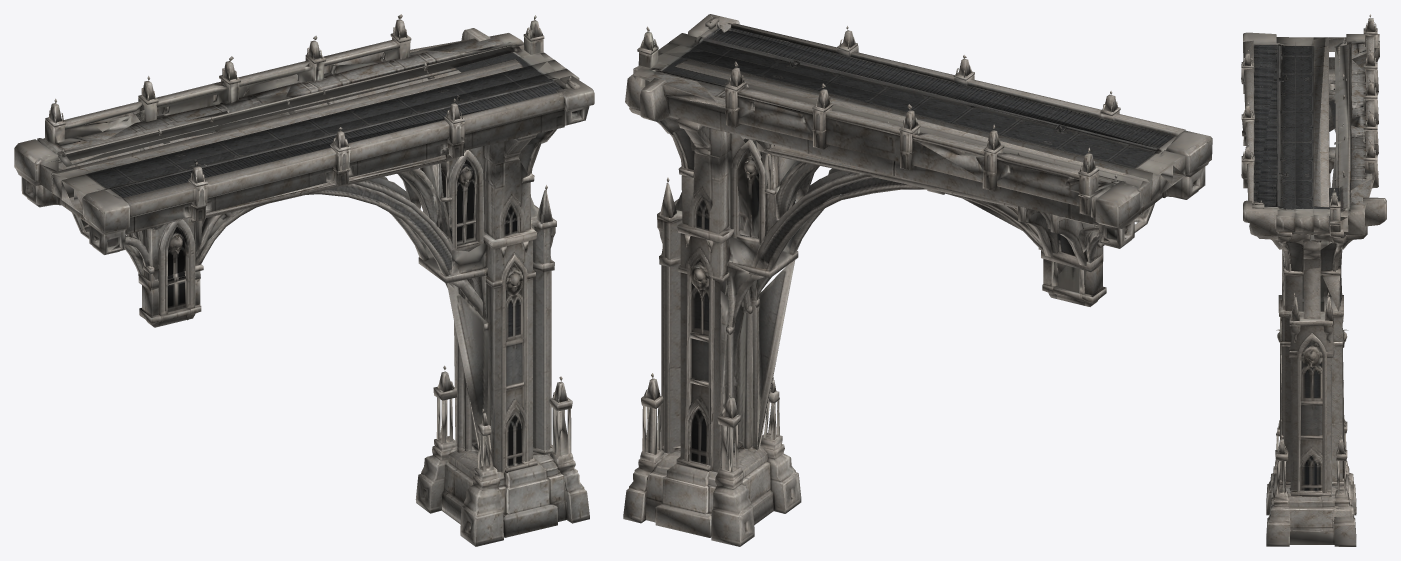
Rendered from Meshy_AI_Bridge_Segment_Low_Po_1029205627_texture.glb.
3 renders of one model, left to right at view 1: azimuth 30°, elevation 25°; view 2: azimuth 150°, elevation 25°; view 3: azimuth 270°, elevation 25°, orthographic. The views are drawn at different scales.
Size of the model in its own units: 0.9517 by 0.8784 by 0.3198.
1 material, 1 textured.
